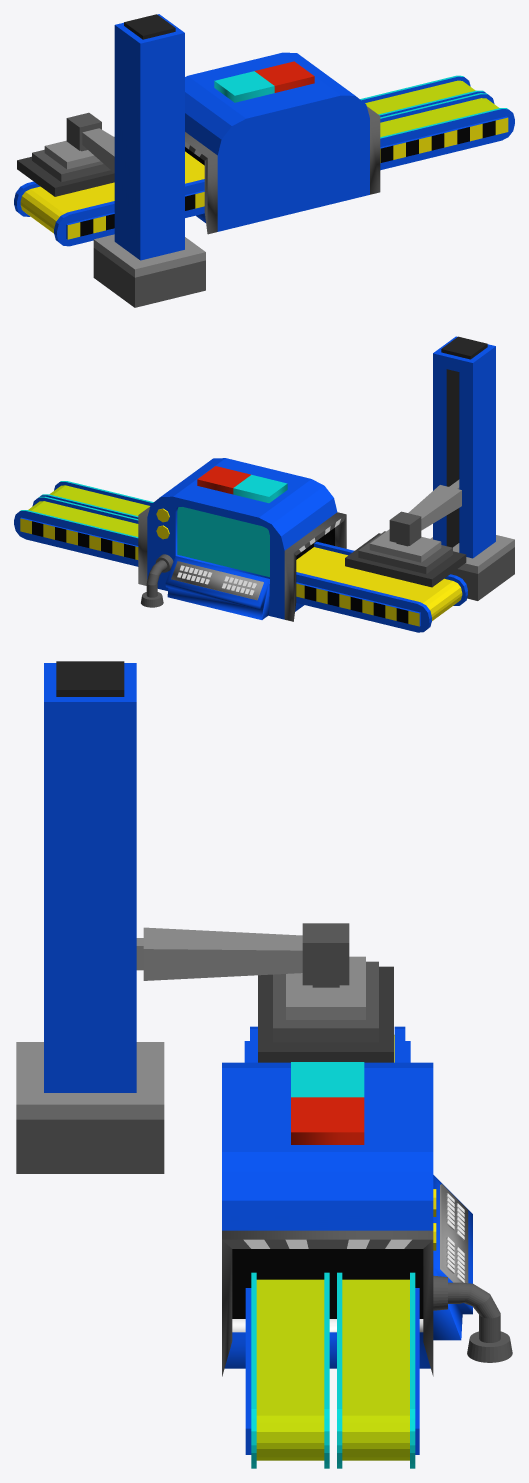
The model's file is NewMachineHead.fbx.
3 views of the same model, one above another, from view 1: azimuth 30°, elevation 25°; view 2: azimuth 150°, elevation 25°; view 3: azimuth 270°, elevation 25° (orthographic). The views are drawn at different scales.
Visible parts, largest first — view 1: HeadMachine, Cube, line, Cube.002, line.001, Cube.004, line.002, Cube.003; view 2: HeadMachine, Cube, line, Cube.002, Cube.004, line.002, Cube.003, line.001; view 3: HeadMachine, Cube, Cube.002, line.001, line.002, Cube.004, Cube.003.
Part boxes in pixels (left/top/right/bottom): HeadMachine: left=14, top=52, right=514, bottom=246; Cube: left=93, top=14, right=205, bottom=307; line: left=20, top=151, right=204, bottom=233; Cube.002: left=44, top=112, right=114, bottom=172; line.001: left=380, top=98, right=498, bottom=136; Cube.004: left=17, top=156, right=114, bottom=196; line.002: left=365, top=80, right=475, bottom=114; Cube.003: left=32, top=149, right=110, bottom=182; HeadMachine: left=14, top=458, right=467, bottom=632; Cube: left=430, top=336, right=514, bottom=600; line: left=296, top=547, right=462, bottom=620; Cube.002: left=369, top=479, right=461, bottom=562; Cube.004: left=345, top=533, right=466, bottom=587; line.002: left=28, top=501, right=138, bottom=536; Cube.003: left=358, top=531, right=452, bottom=573; line.001: left=49, top=485, right=149, bottom=515; HeadMachine: left=222, top=1026, right=512, bottom=1468; Cube: left=16, top=661, right=164, bottom=1173; Cube.002: left=136, top=923, right=365, bottom=1019; line.001: left=256, top=1279, right=324, bottom=1460; line.002: left=342, top=1279, right=409, bottom=1460; Cube.004: left=258, top=966, right=393, bottom=1062; Cube.003: left=273, top=961, right=378, bottom=1042.
Bounding box in the file's own units: 902 × 470 × 491.
